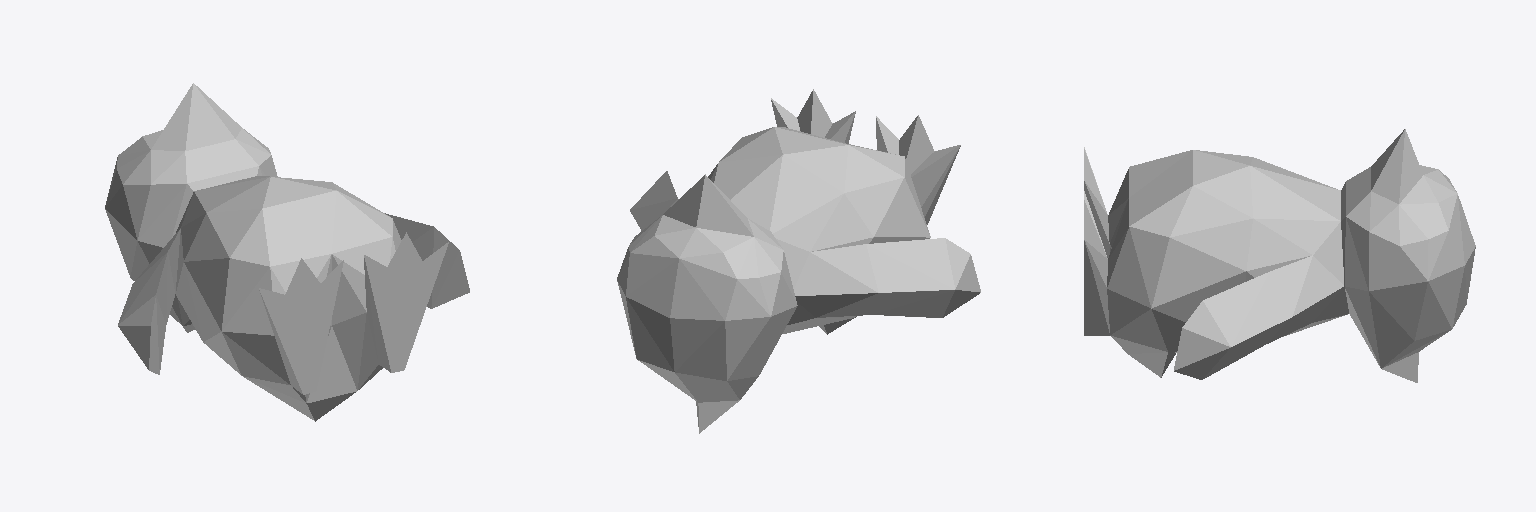
The model's file is penguin.obj.
3 renders of one model, left to right at view 1: azimuth 30°, elevation 25°; view 2: azimuth 150°, elevation 25°; view 3: azimuth 270°, elevation 25°, orthographic.
Parts seen in each view (by area): view 1: penguin_0_0_node; view 2: penguin_0_0_node; view 3: penguin_0_0_node.
Part boxes in pixels (x1,y1,x2,y2): penguin_0_0_node: (105, 83, 469, 421); penguin_0_0_node: (617, 89, 980, 433); penguin_0_0_node: (1084, 129, 1475, 382).
Size of the model in its own units: 14.13 by 10.57 by 14.72.